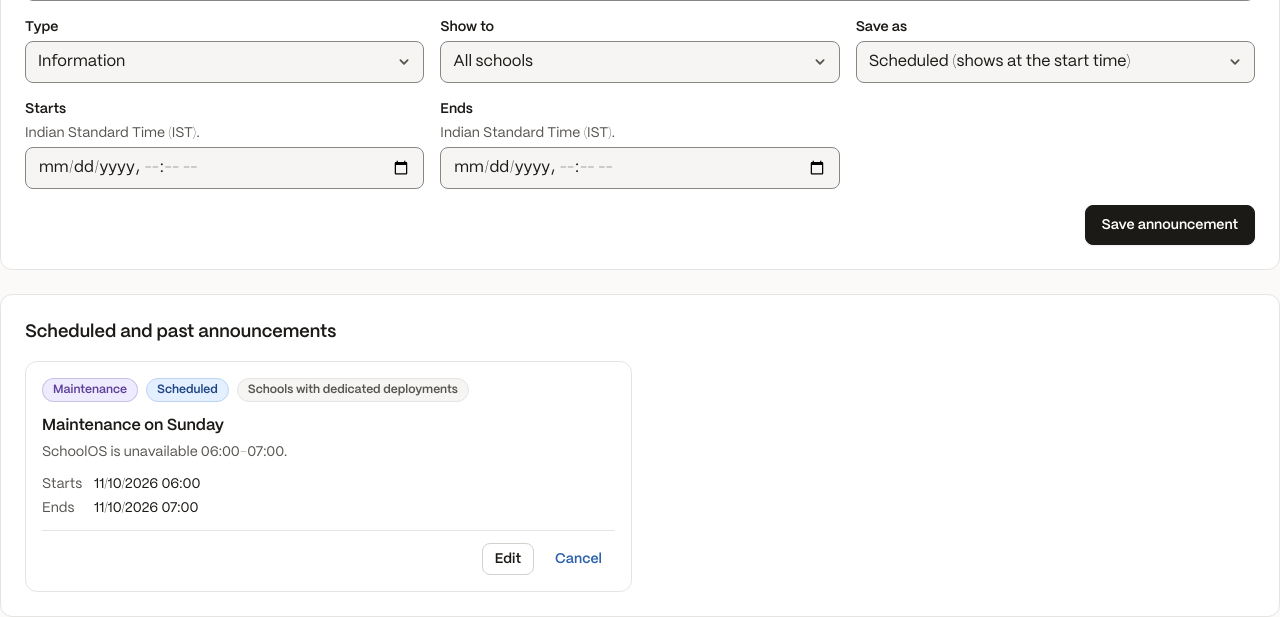
Test: edit an announcement (FR-PLT-026) › ending while the cancel dialog is open (409): it explains it and the list refreshes
(page scrolled)
Click the button "Cancel" at coordinates (578, 559), box top-left (542, 543), bottom-right (615, 575)
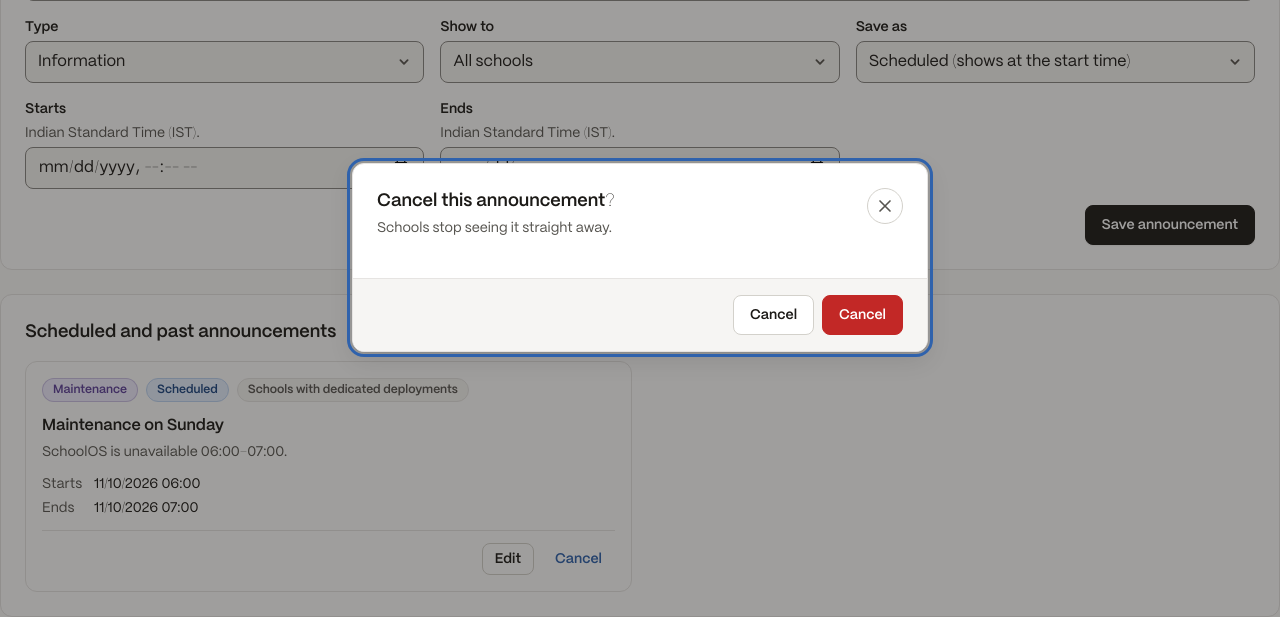
Now the 2nd button "Cancel" is shown
Click the 2nd button "Cancel" at coordinates (862, 314), box top-left (822, 294), bottom-right (903, 334)
(page scrolled)
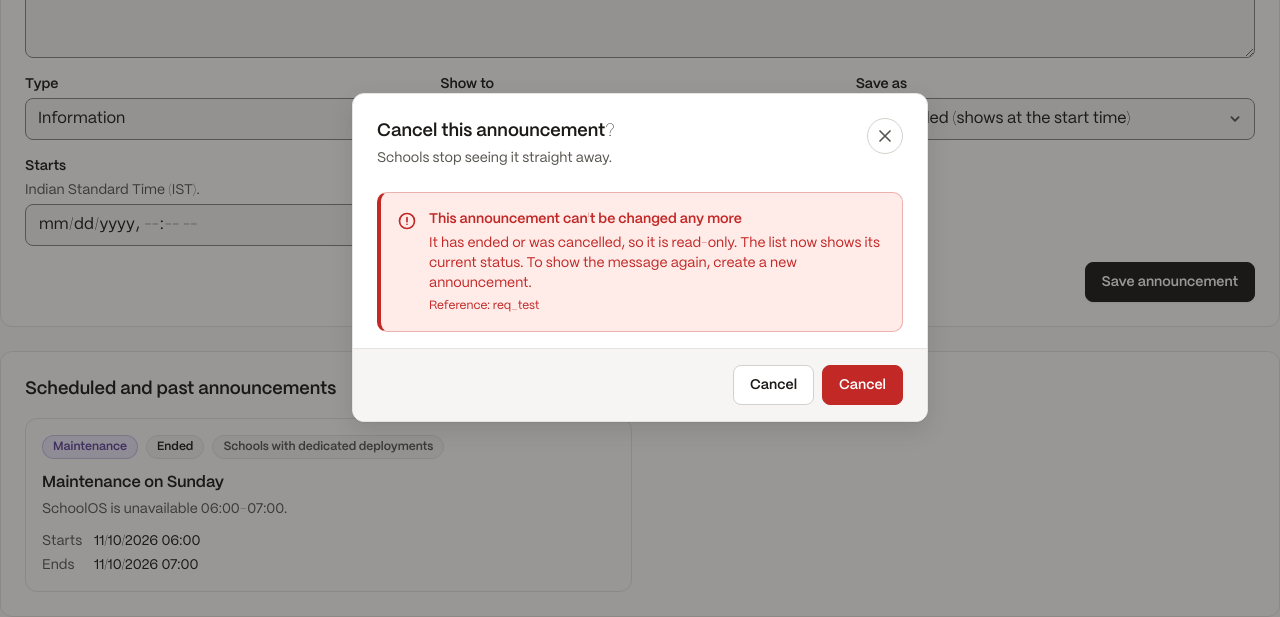
Now the text "This announcement can't be changed any more" is shown, box top-left (429, 212), bottom-right (742, 226)
Now the text "It has ended or was cancelled, so it is read-only. The list now shows its current status. To show the message again, cre" is shown, box top-left (429, 236), bottom-right (880, 290)
Now the text "Ended" is shown, box top-left (146, 435), bottom-right (204, 459)
